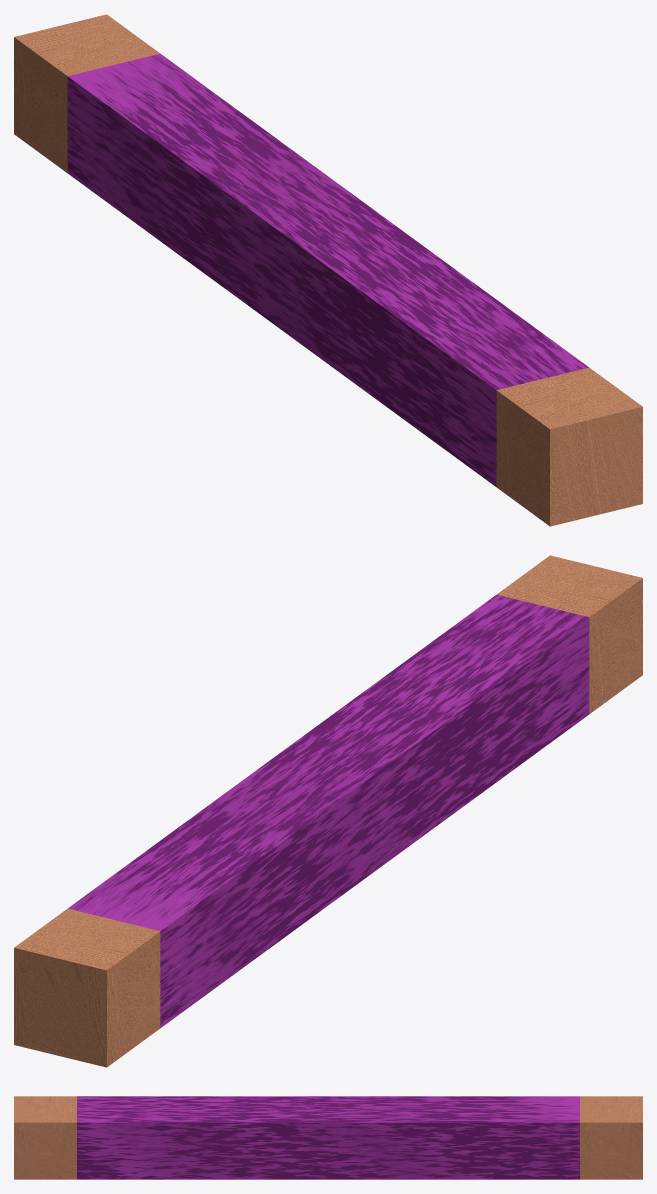
File: Stair.obj
The picture shows the model from 3 angles, top to bottom: view 1: azimuth 30°, elevation 25°; view 2: azimuth 150°, elevation 25°; view 3: azimuth 270°, elevation 25°; orthographic projection. The views are drawn at different scales.
Parts seen in each view (by area): view 1: Cube, Cube.002, Cube.001; view 2: Cube, Cube.001, Cube.002; view 3: Cube, Cube.001, Cube.002.
Boxes of the visible parts, x1,y1,x2,y2 form: Cube: (67, 53, 588, 486); Cube.002: (496, 367, 642, 526); Cube.001: (14, 14, 159, 172); Cube: (68, 594, 589, 1027); Cube.001: (14, 908, 160, 1067); Cube.002: (497, 555, 642, 713); Cube: (77, 1096, 579, 1179); Cube.001: (580, 1096, 642, 1179); Cube.002: (14, 1096, 76, 1179).
Size of the model in its own units: 2 by 2 by 20.
